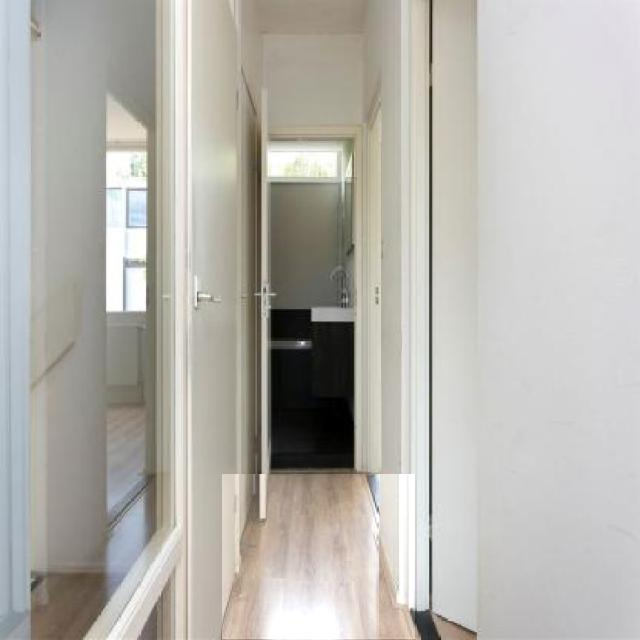floor: (222, 475, 415, 640)
